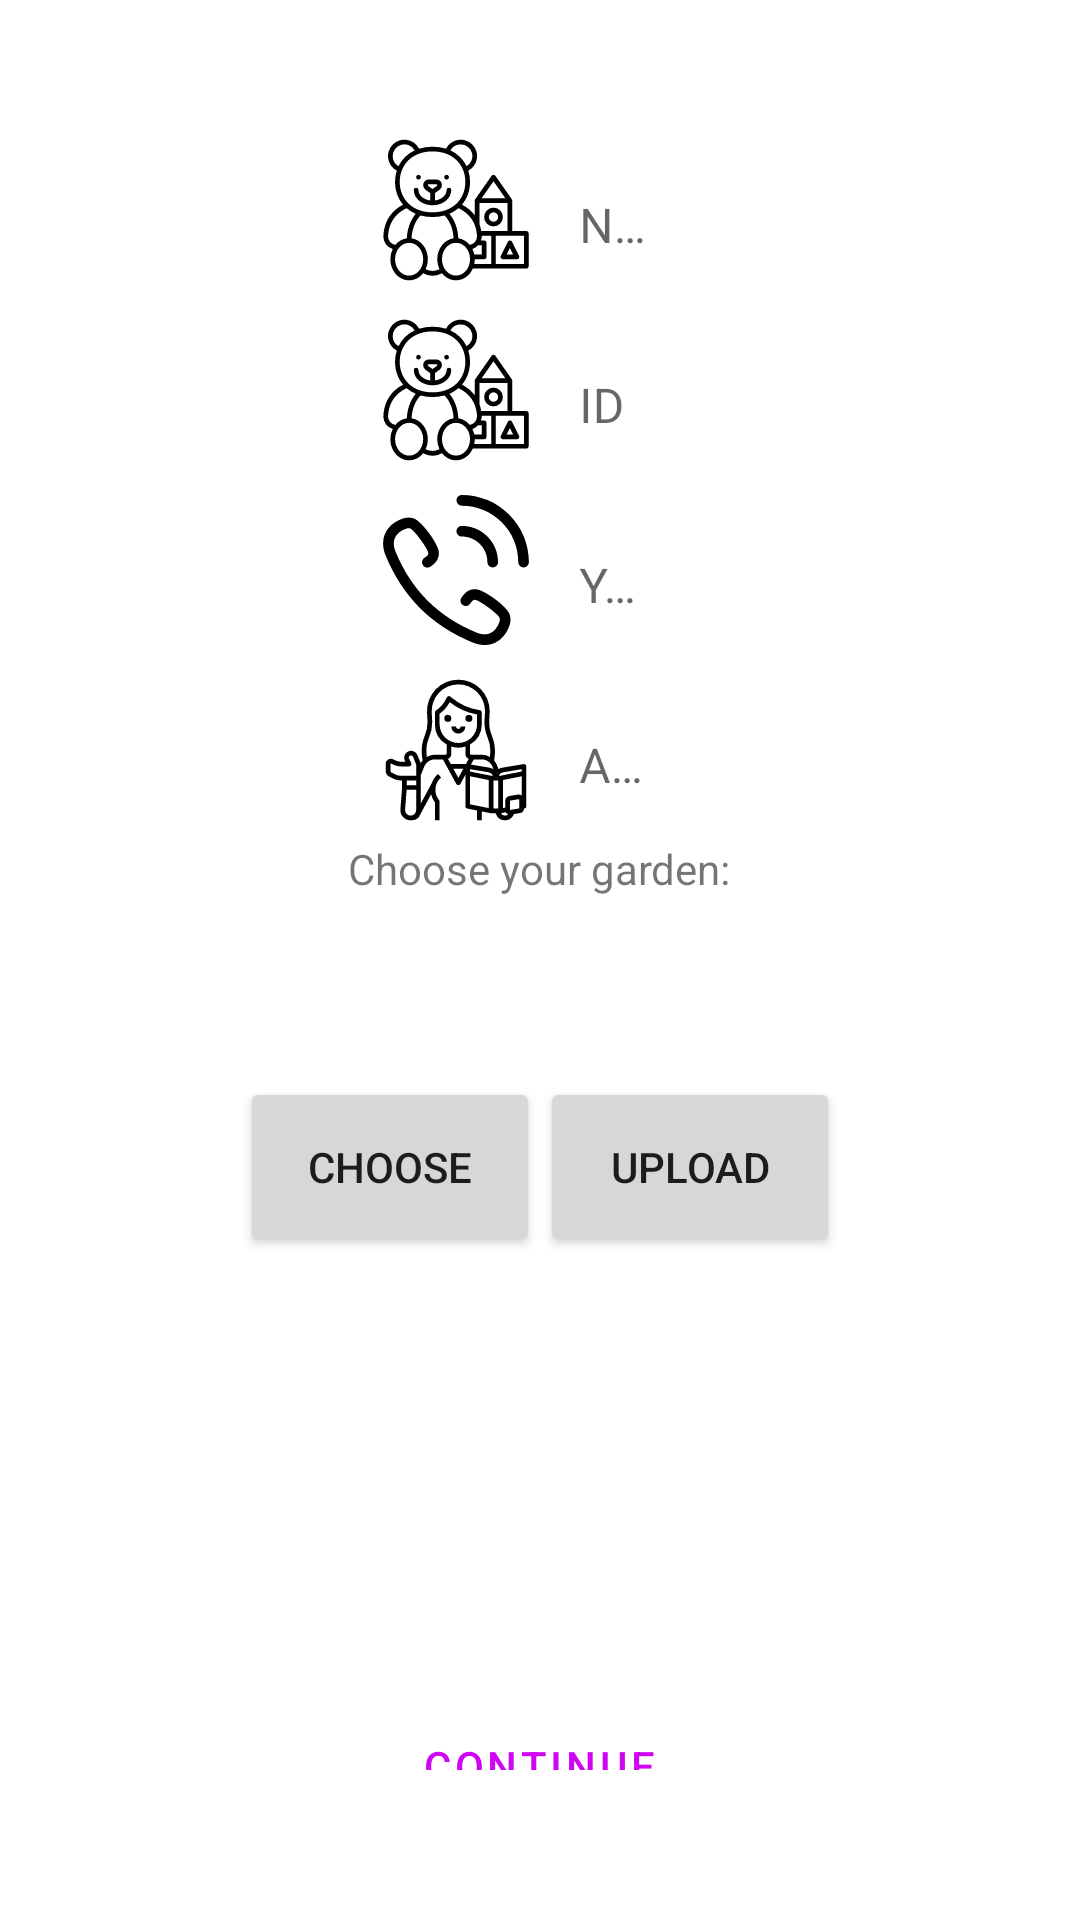

Icons on this 1080 x 1920 Android screen, each with its box as (x1, y1, x2, y2):
phone call: (383, 495, 529, 645)
teacher: (385, 679, 527, 821)
toys: (383, 139, 529, 281), (383, 319, 529, 461)
